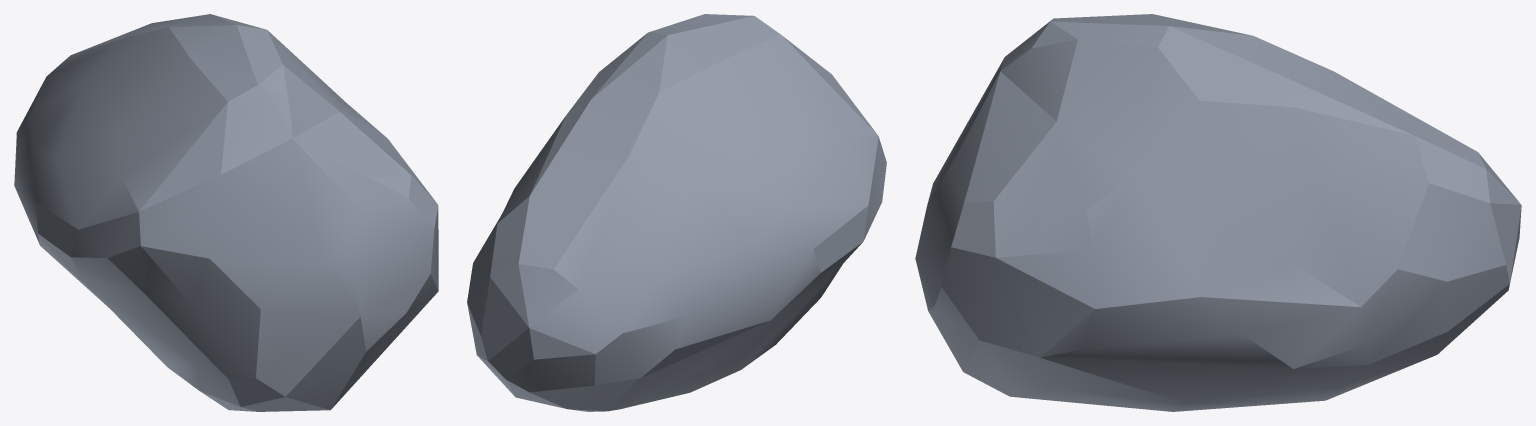
Rendered from Stone 4.fbx.
The picture shows the model from 3 angles, left to right: view 1: azimuth 30°, elevation 25°; view 2: azimuth 150°, elevation 25°; view 3: azimuth 270°, elevation 25°; orthographic projection. The views are drawn at different scales.
Visible parts, largest first — view 1: Stone.006; view 2: Stone.006; view 3: Stone.006.
Part boxes in pixels (<box>): Stone.006: <box>14,14,438,411</box>; Stone.006: <box>467,14,886,411</box>; Stone.006: <box>915,14,1521,411</box>.
Bounding box in the file's own units: 180 × 180 × 260.
